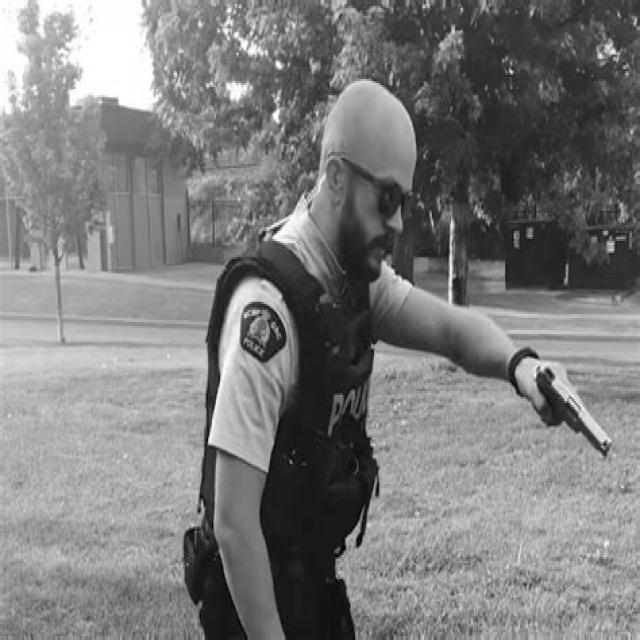weapons: (526, 350, 626, 482)
